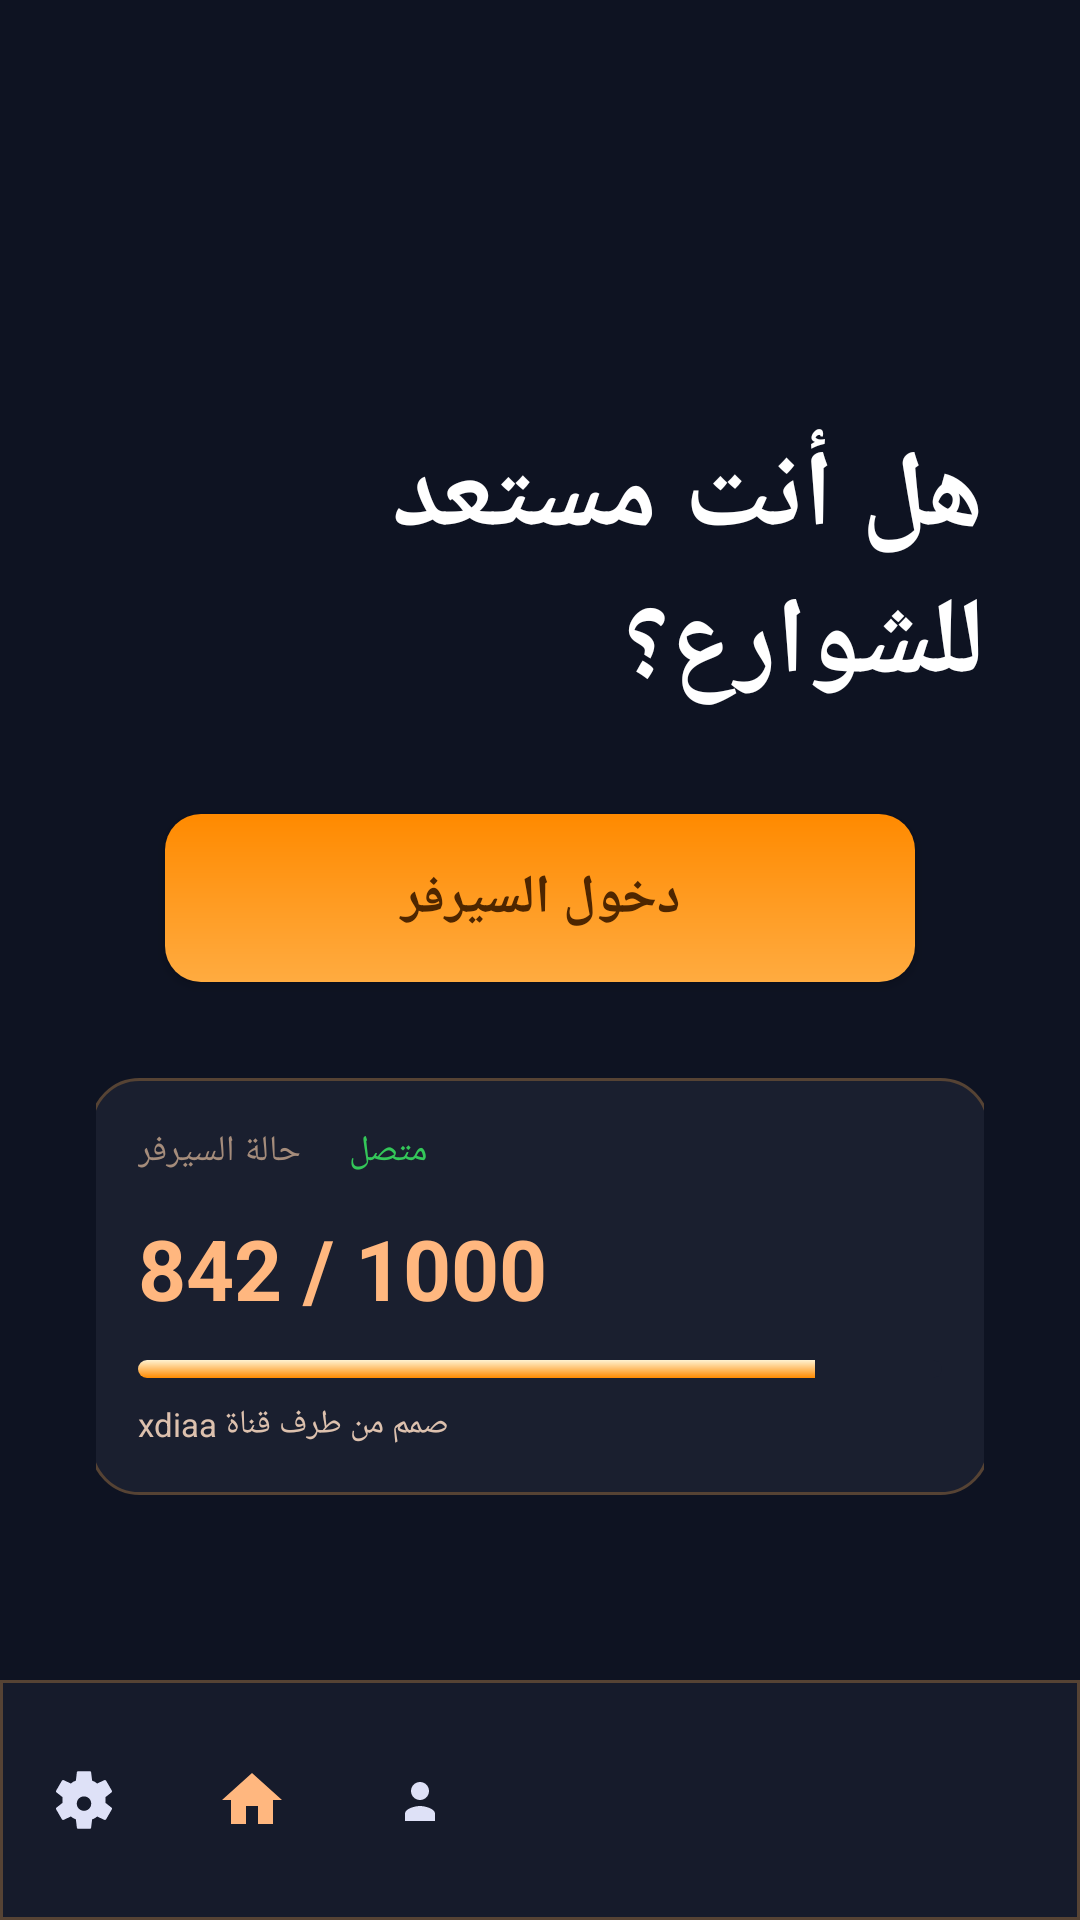

Where icons sit on this 1080 x 1920 app screen, as (x1, y1, x2, y2):
الإعدادات: (56, 1771, 112, 1829)
الرئيسية: (222, 1773, 282, 1824)
حسابي: (405, 1782, 435, 1821)
